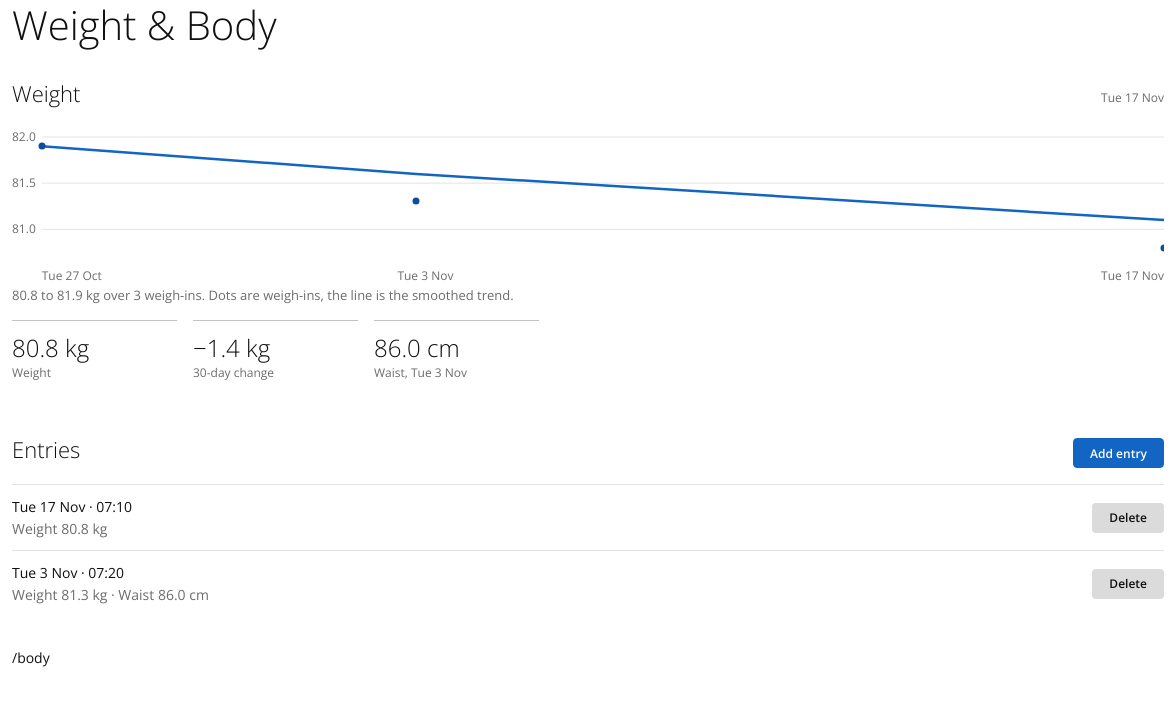
it: wide screen › Body: the chart and a strip of the latest figures, entries with a delete, Add entry beside the title of the list
The image size is (1176, 720).
Expected: the heading "Weight & Body" is shown, x1=12 y1=0 x2=276 y2=50
Expected: the text "80.8 kg" is shown, x1=12 y1=331 x2=89 y2=364
Click the button "Add entry" at (1119, 453), box x1=1073 y1=438 x2=1164 y2=468
(page scrolled)
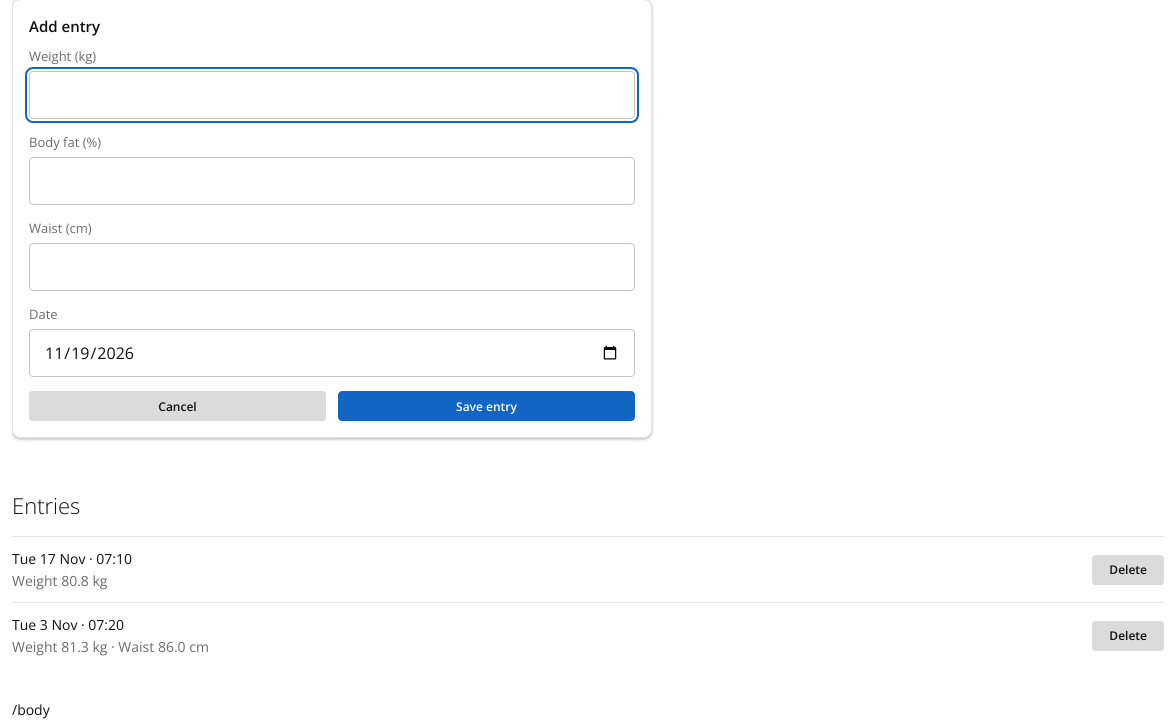
Expected: the button "Save entry" is shown, x1=338 y1=391 x2=635 y2=421
